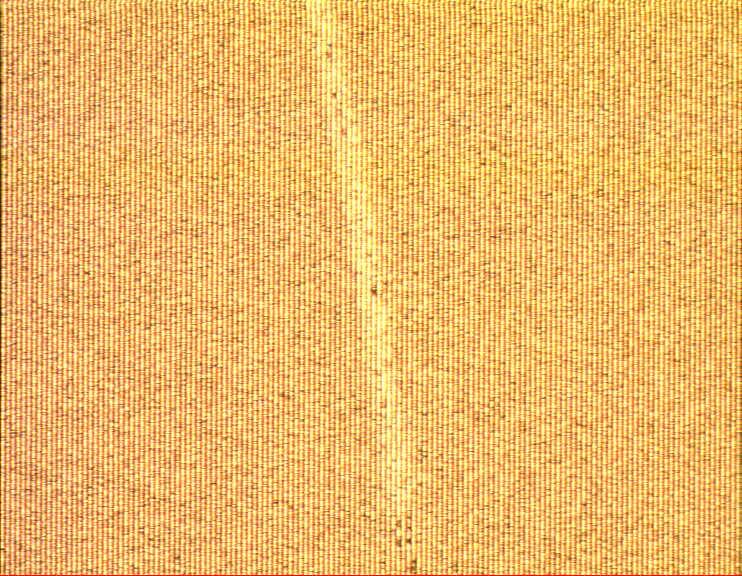SCRATCH: (293, 1, 434, 574)
